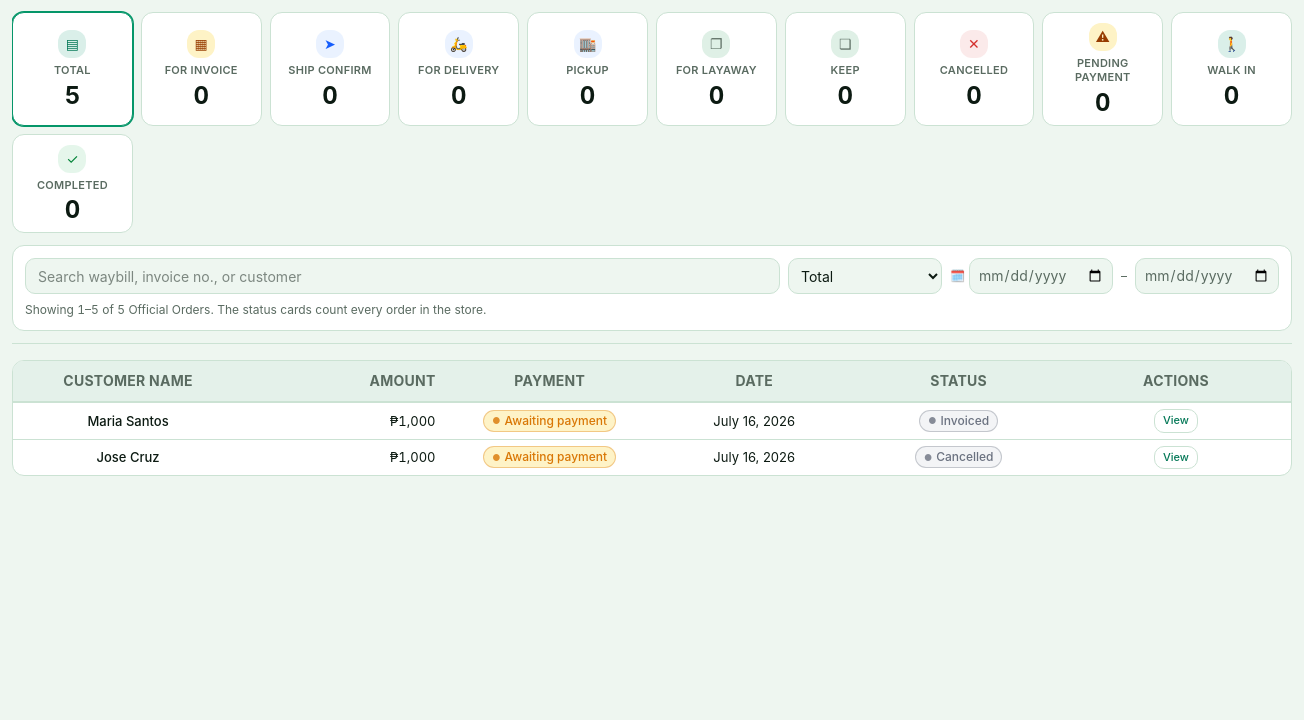
Test: OrdersView — server-side search / flow / date dispatch › clicking a status card refetches with that card AND updates the dropdown
Click the button with test id "orders-card-cancelled" at (974, 69), box [914, 12, 1034, 126]
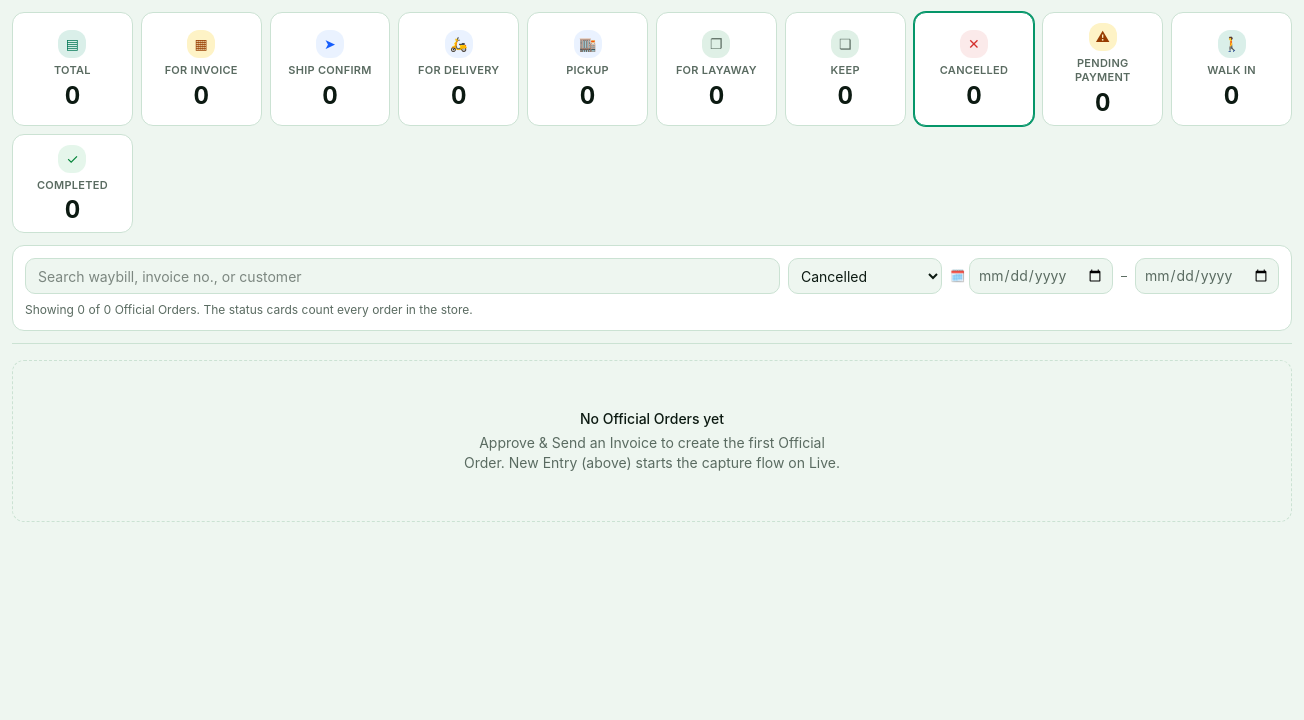
Result: the dropdown with test id "orders-filter-flow" shows "Cancelled" at [788, 258, 942, 294]
